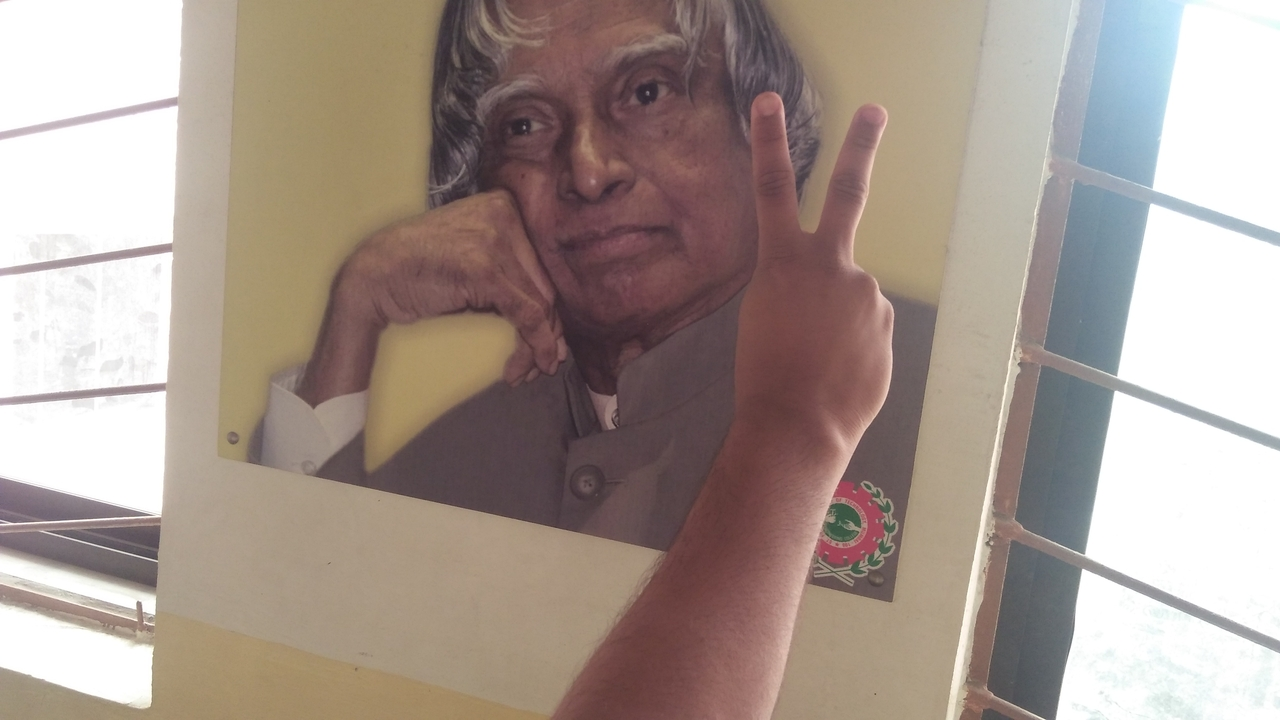fingertip: (842, 94, 900, 140), (744, 82, 796, 126)
